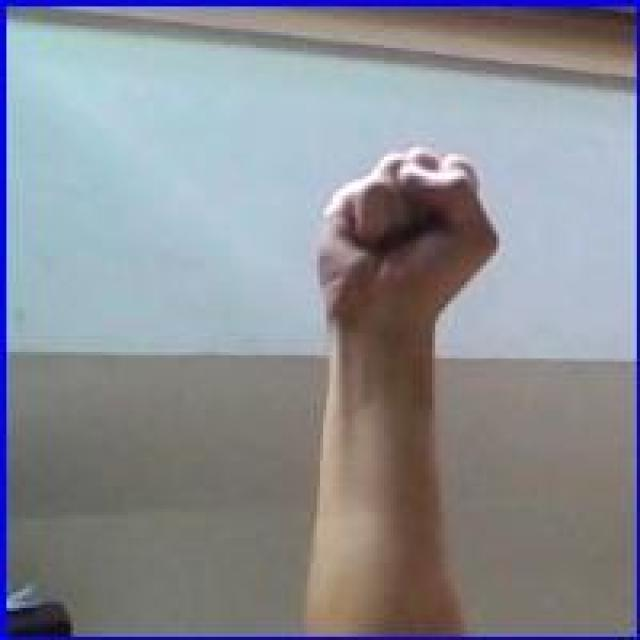S: (306, 142, 504, 338)
